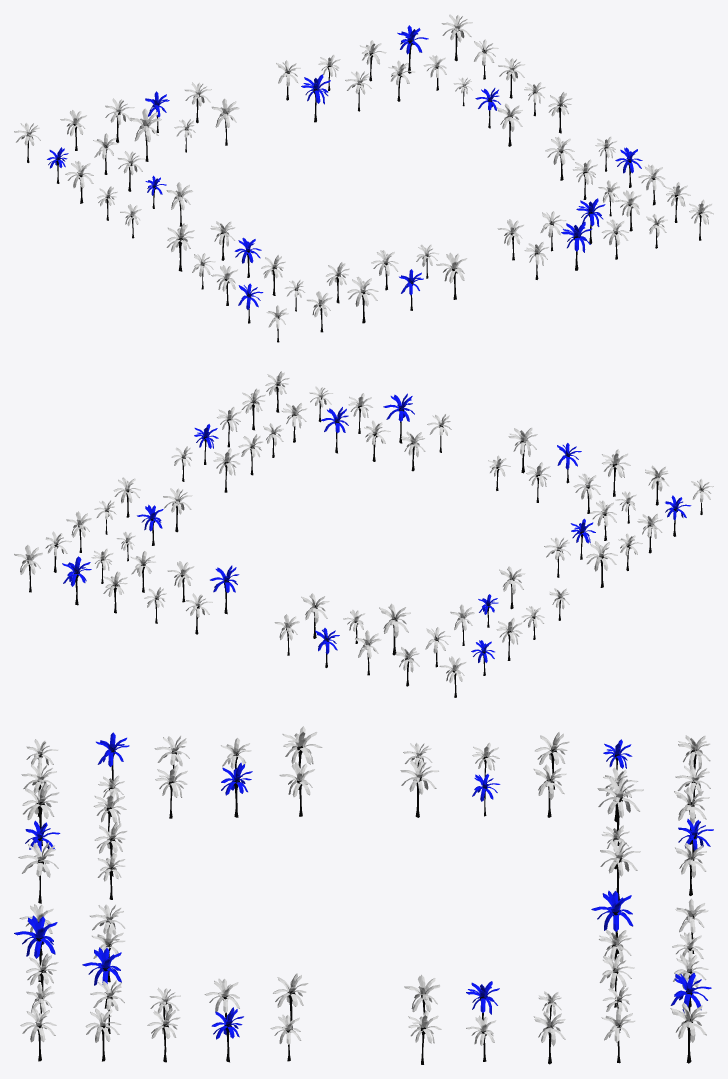
The model's file is MosqueTree.FBX.
3 views of the same model, one above another, from view 1: azimuth 30°, elevation 25°; view 2: azimuth 150°, elevation 25°; view 3: azimuth 270°, elevation 25° (orthographic). The views are drawn at different scales.
Visible parts, largest first — view 1: Tree; view 2: Tree; view 3: Tree.
Part boxes in pixels (x1,y1,x2,y2): Tree: (14,14,713,342); Tree: (14,371,713,697); Tree: (14,726,713,1064).
Size of the model in its own units: 3035 by 341 by 3038.
